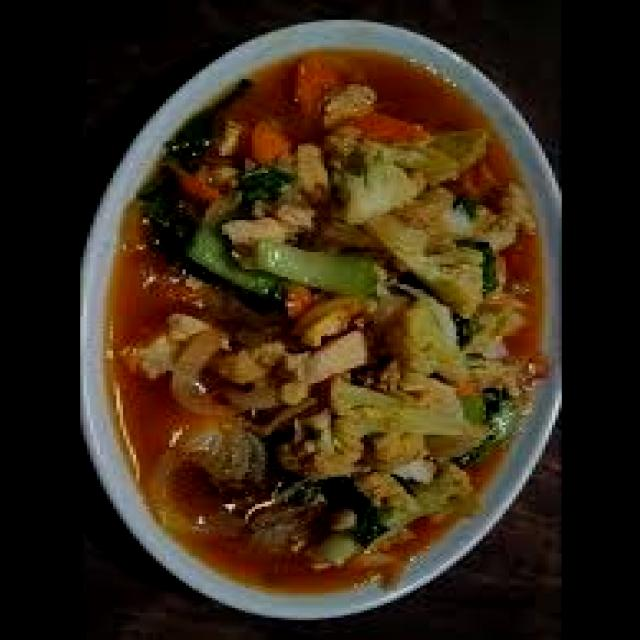capcay: (106, 47, 554, 593)
